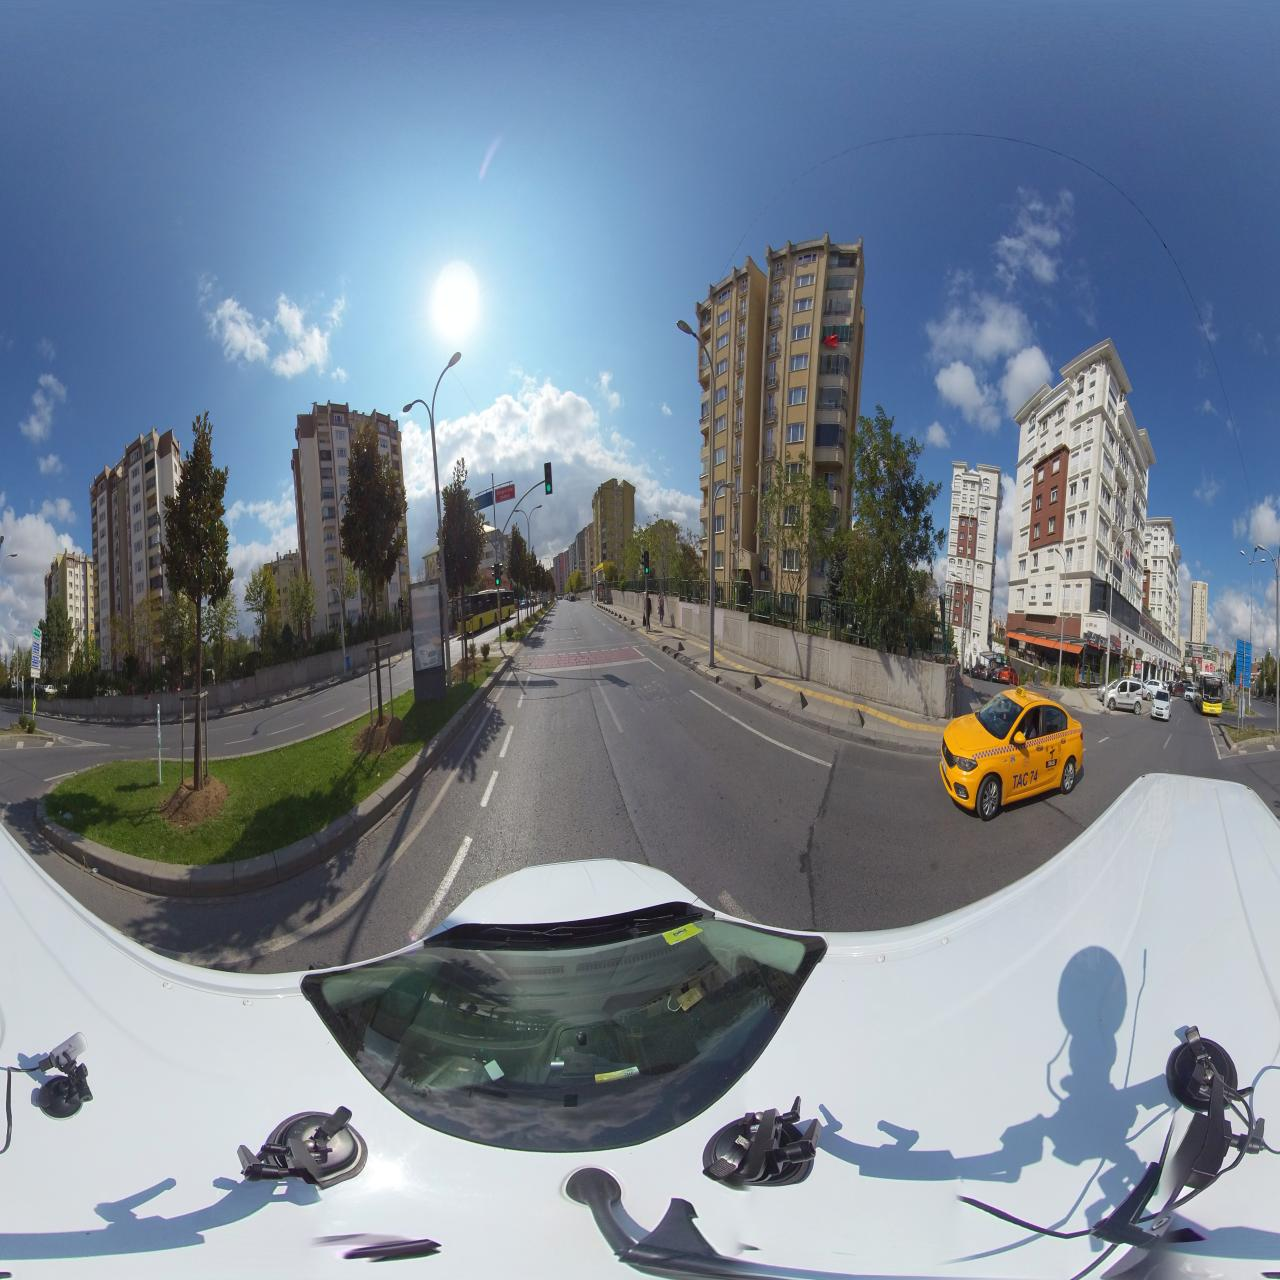SignStore: (1097, 634, 1116, 652), (1124, 647, 1133, 659), (1136, 651, 1143, 659), (1149, 656, 1151, 662)
